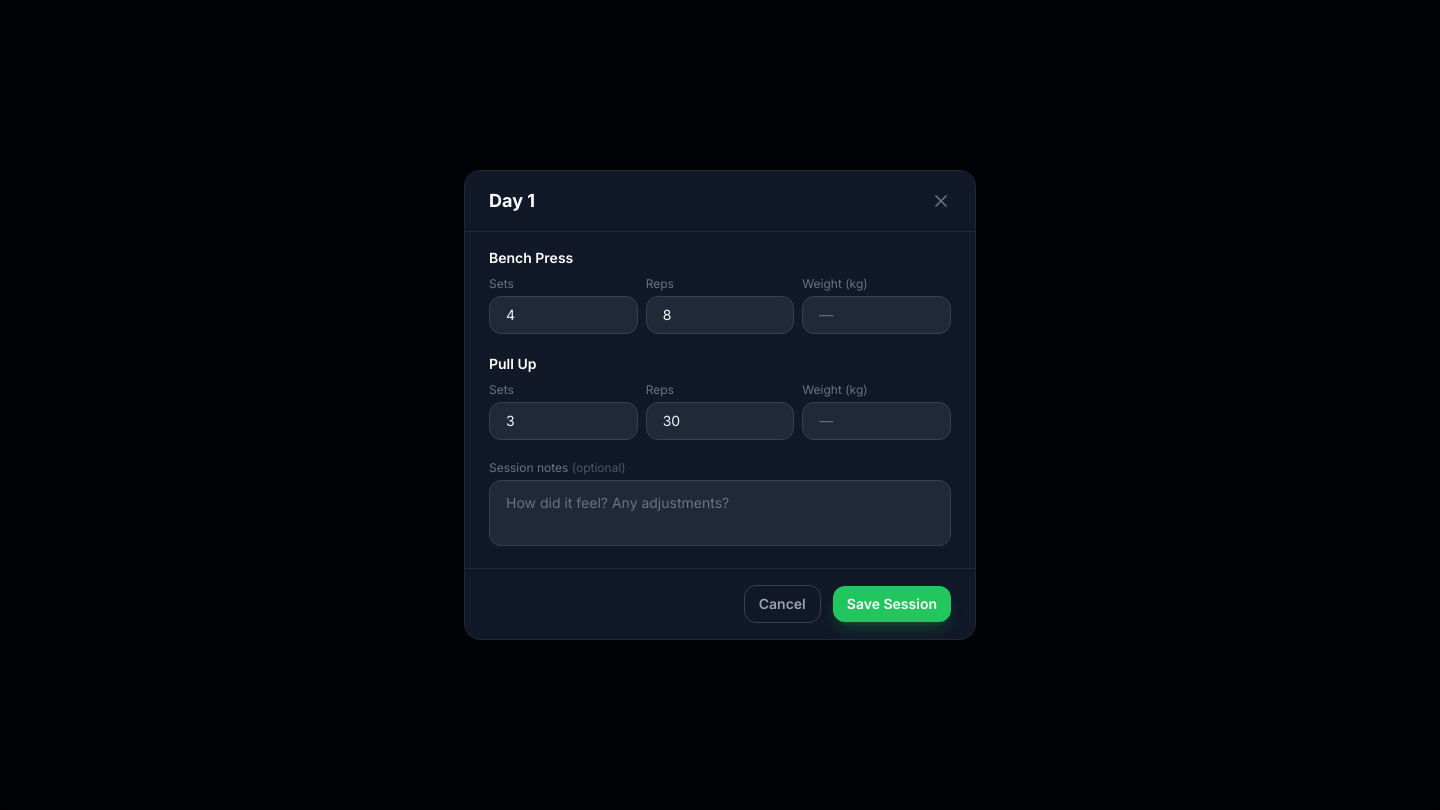
Scenario: LogWorkoutModal › clears the validation message once the field is corrected
Clear the number field named "Sets completed for Bench Press". click: (563, 315)
box: [489, 296, 638, 334]
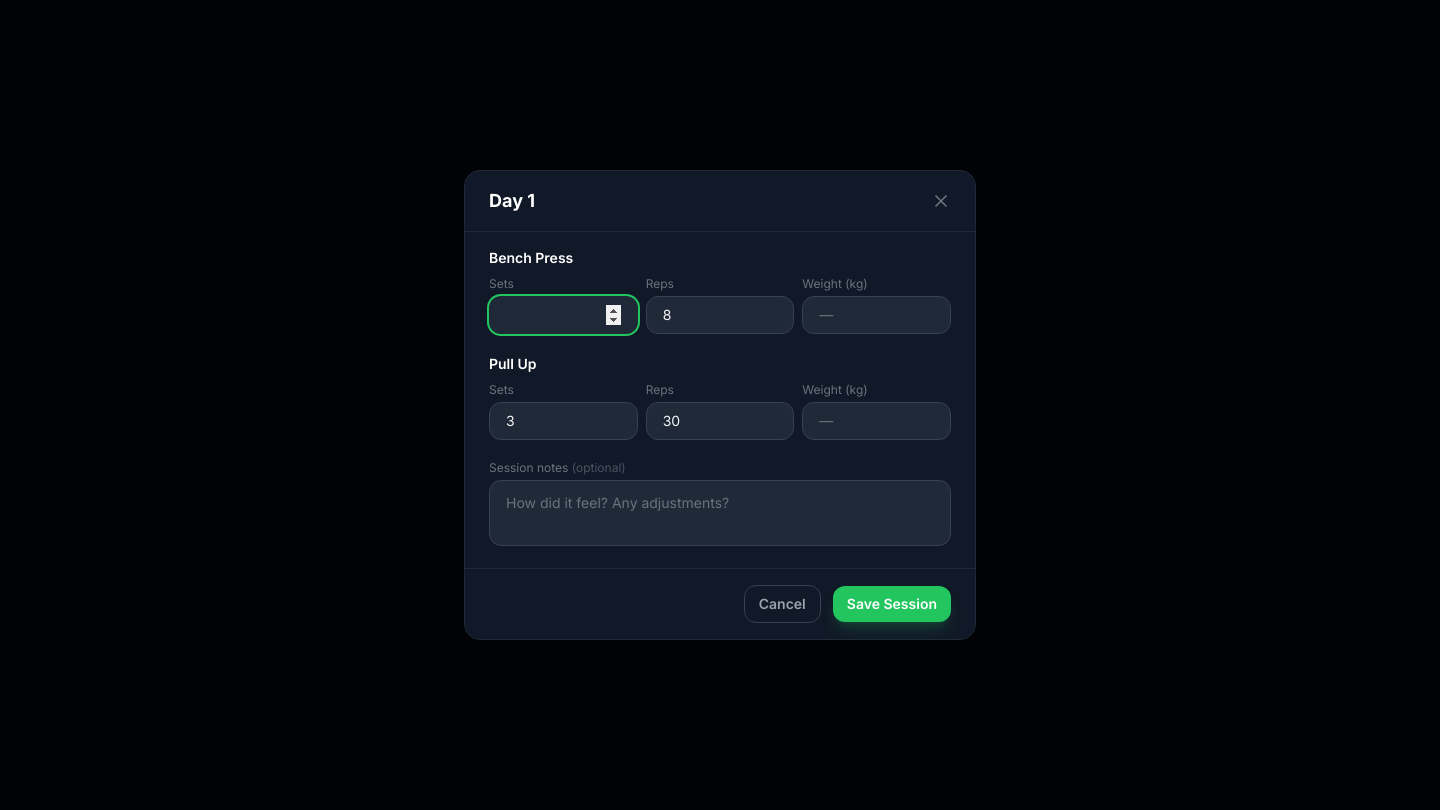
Click the button "Save Session". click: (892, 604)
box: [833, 586, 951, 622]
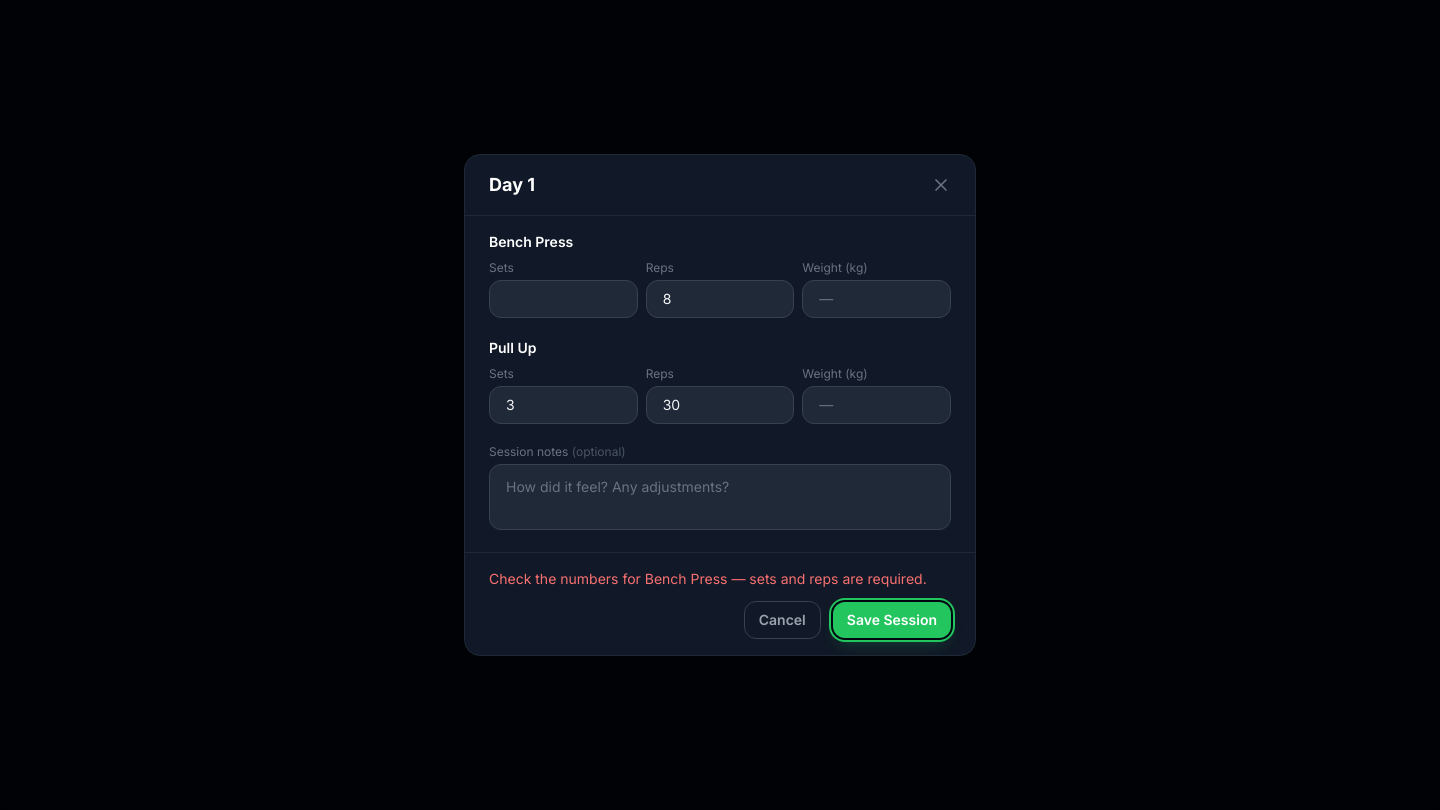
Expected: the message "Check the numbers for Bench Press — sets and reps are required." is shown, [489, 569, 951, 589]
Type "3" into the number field named "Sets completed for Bench Press". click: (563, 299)
box: [489, 280, 638, 318]
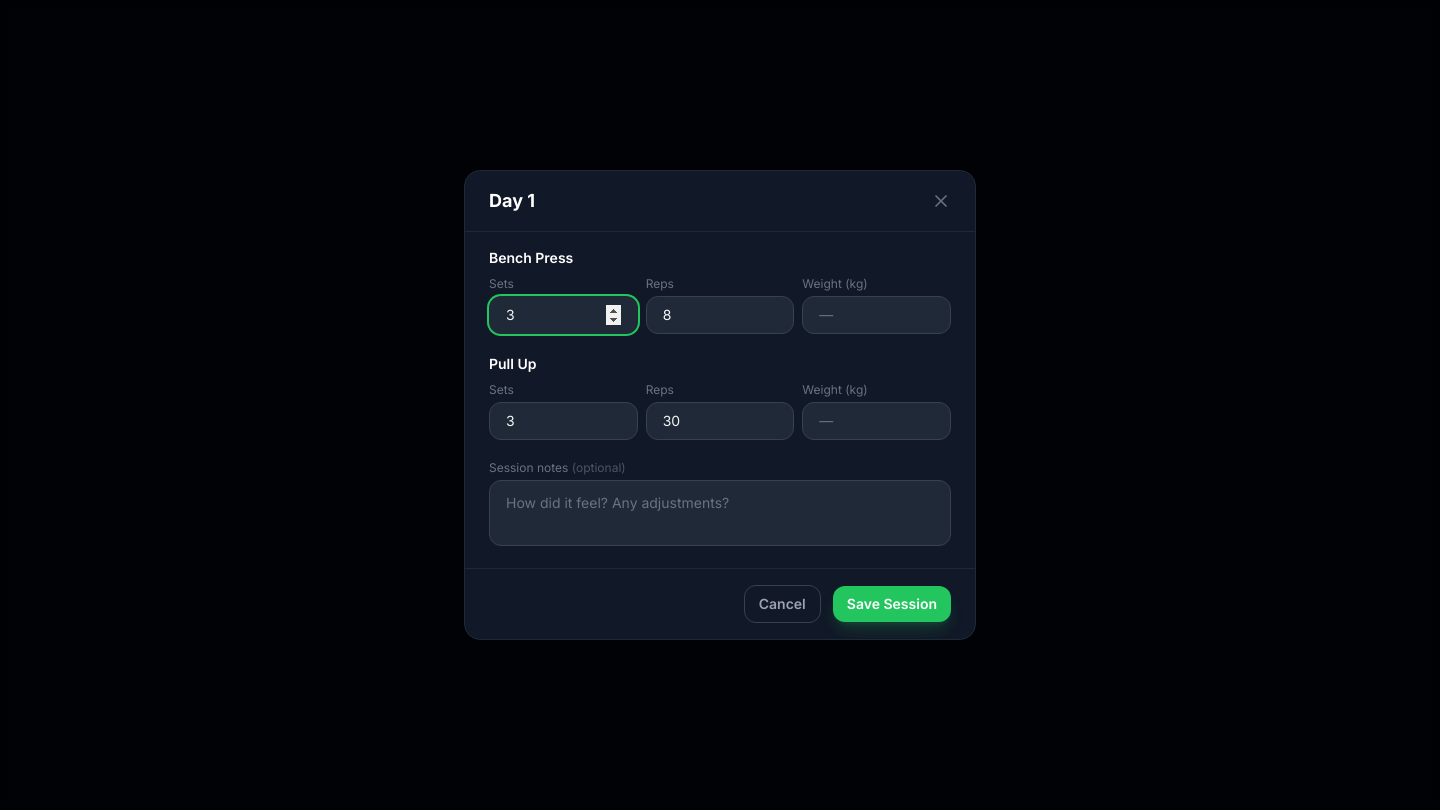
Expected: the message "Check the numbers for Bench Press — sets and reps are required." is gone
